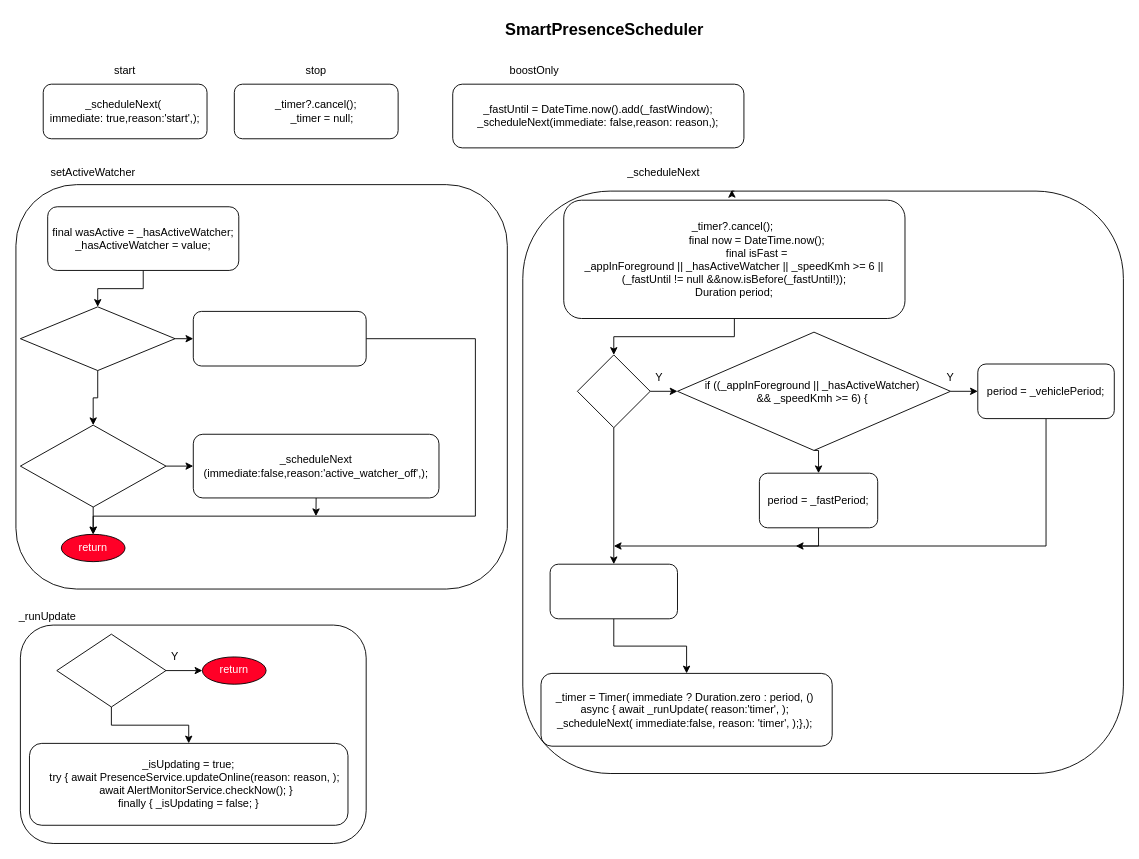
Some shapes in this 1139 by 859 pixel diagram are drawn without their labels. Each missing label, with the centre of its shape:
boostAndUpdateNow ( reason:'active_watcher_started', );: point 279,338
if (!wasActive && value): point 97,338
if (_isUpdating): point 111,670
if (isFast): point 613,391
if (wasActive && !value): point 92,465
period = _slowPeriod;: point 613,591
